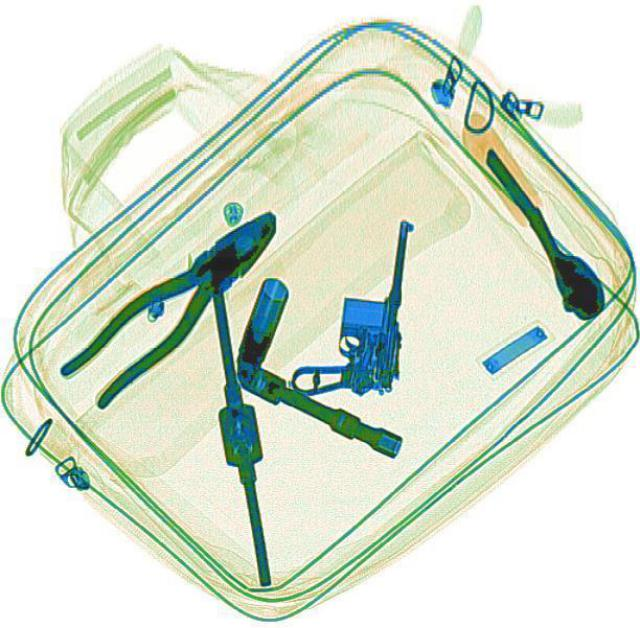Gun: (289, 208, 415, 400)
Pliers: (51, 192, 299, 408)
